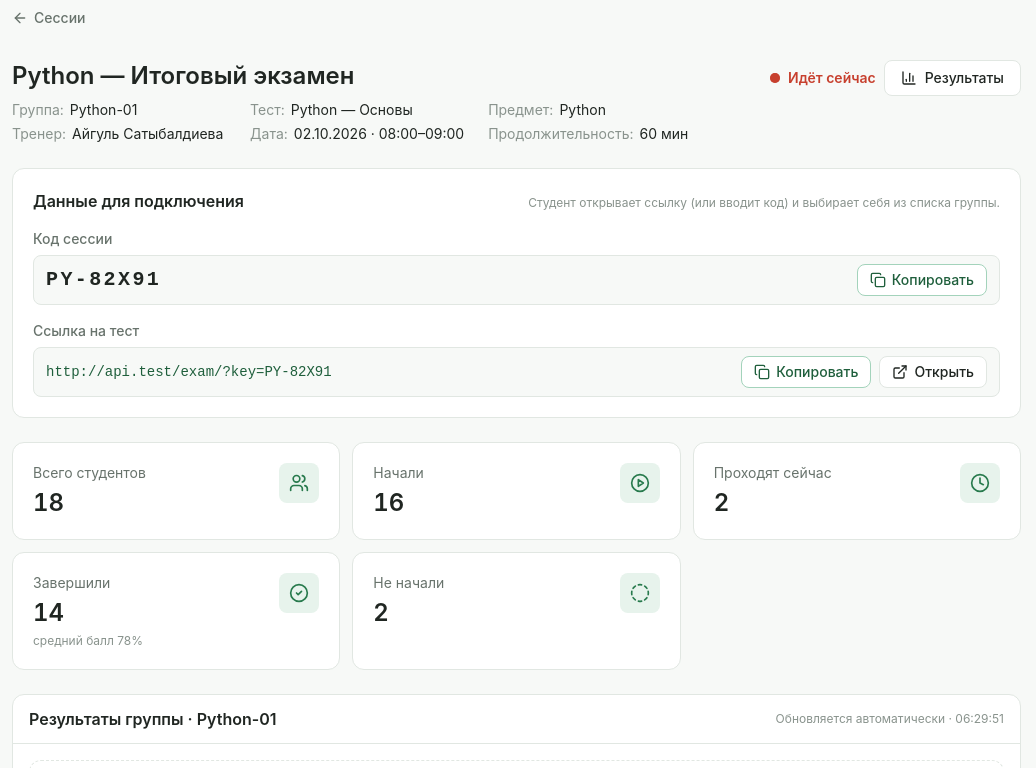
Scenario: Team Lead — Сессии › shows the real session code and join link with copy / open
The image size is (1036, 768).
Expected: the text "PY-82X91" is shown, [46, 266, 161, 294]
Click the button with aria-label "Копировать ссылку на тест". click: (806, 372)
box: [741, 356, 871, 388]
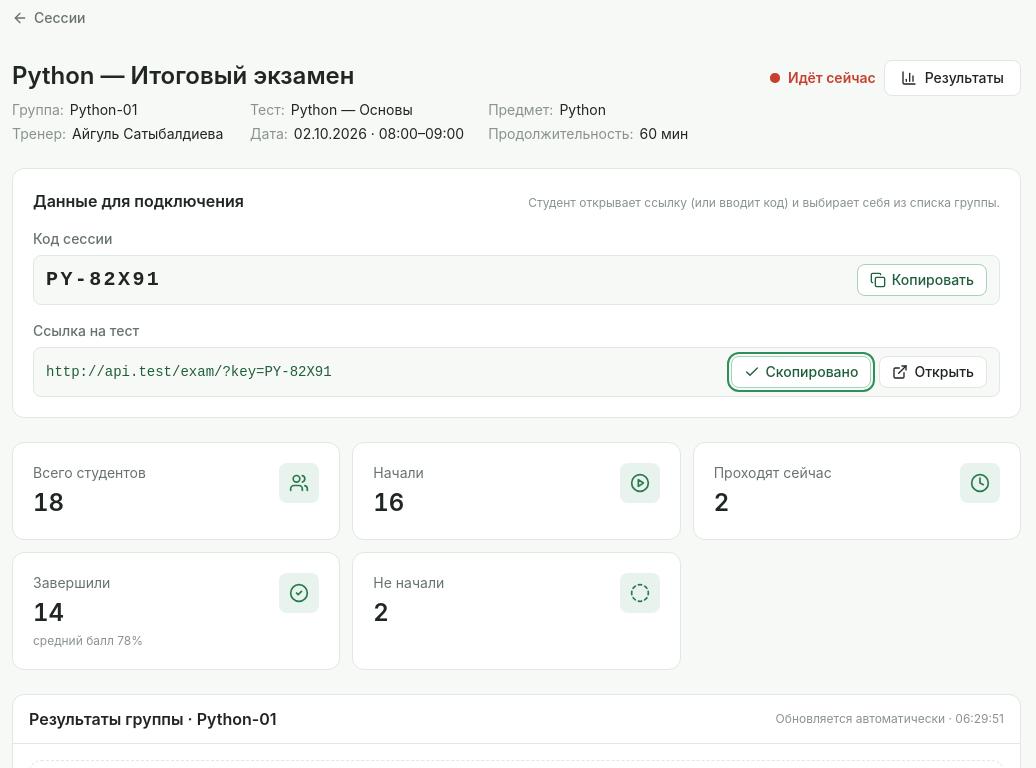
Expected: the button "Скопировано" is shown, [731, 356, 871, 388]
